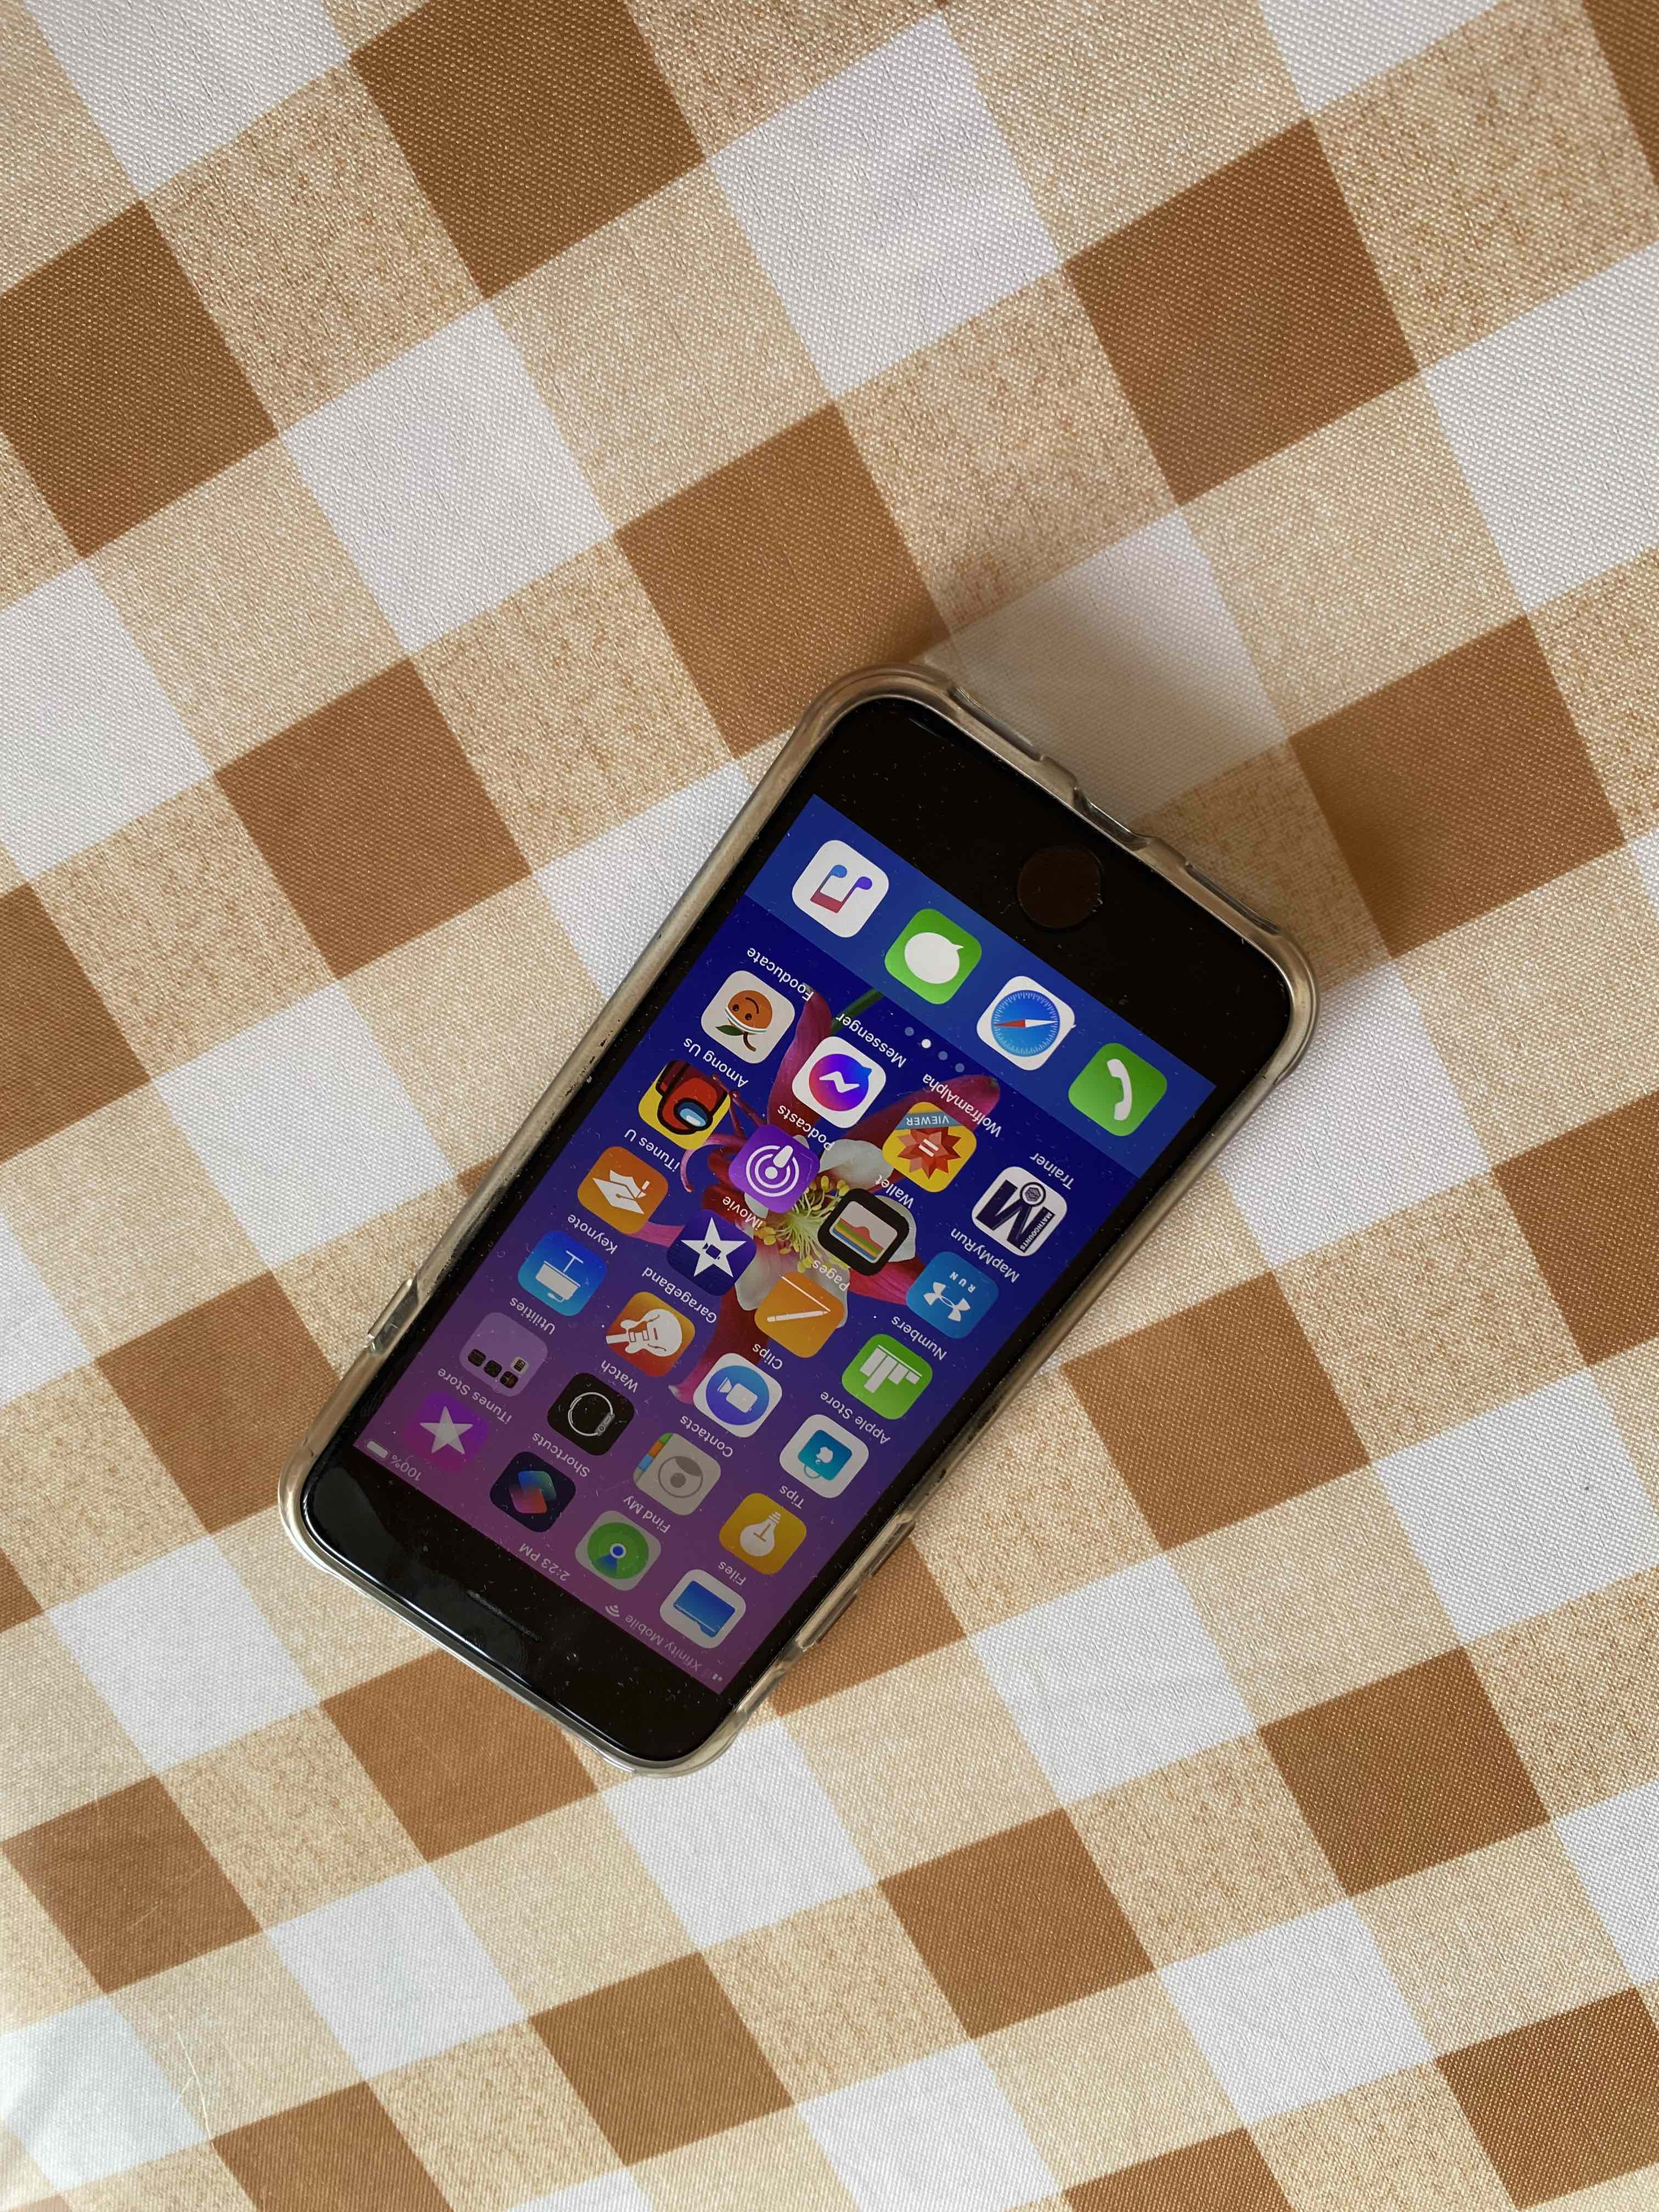Cell Phone: (282, 665, 1317, 1778)
